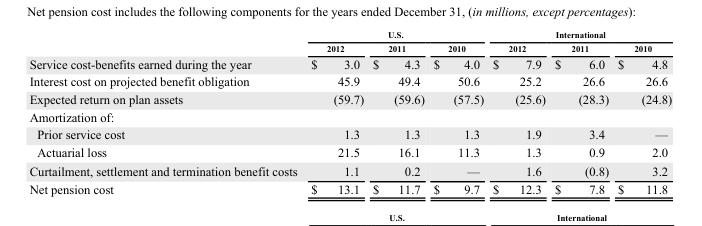table: (28, 29, 671, 195)
table column: (28, 29, 303, 195), (303, 29, 367, 195), (549, 29, 612, 195), (487, 29, 549, 195), (367, 29, 428, 195), (428, 29, 487, 195), (612, 29, 671, 195)
table column header: (28, 29, 671, 54)
table projected row header: (28, 107, 671, 125)
table row: (28, 142, 671, 161), (28, 54, 671, 72), (28, 89, 671, 107), (28, 107, 671, 125), (28, 161, 671, 179), (28, 72, 671, 89), (28, 125, 671, 142), (28, 179, 671, 195), (28, 40, 671, 54), (28, 29, 671, 40)
table spanning cell: (303, 29, 487, 40), (487, 29, 671, 40)
